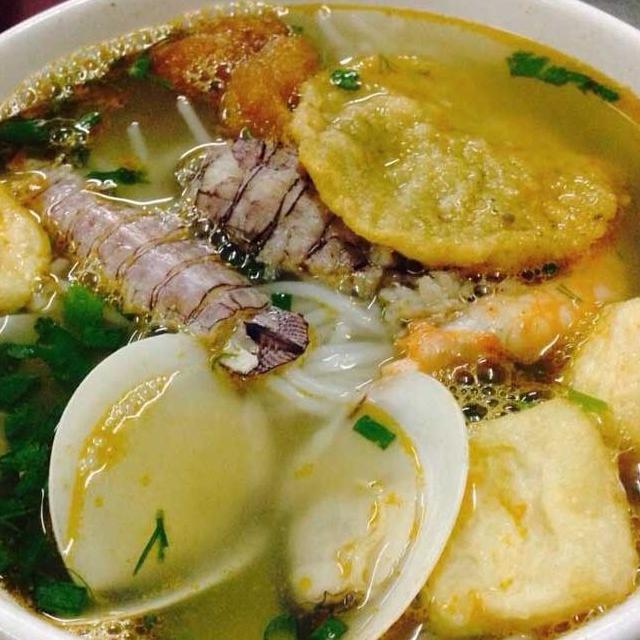bun: (241, 266, 407, 431)
bun hai san: (0, 25, 640, 640)
ca: (131, 5, 321, 145)
dau hu: (403, 384, 640, 640), (547, 287, 640, 510), (0, 169, 58, 347)
tom: (372, 222, 640, 392)
tom tit: (0, 145, 316, 392), (168, 130, 441, 312)
